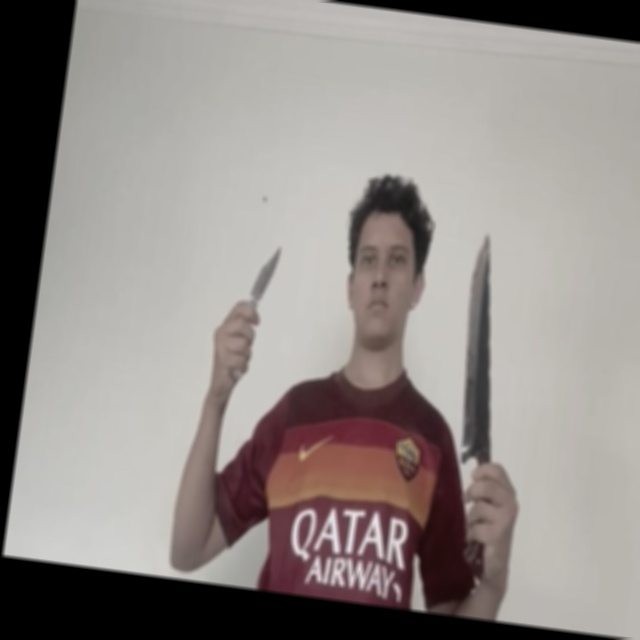Sharp-Object: (446, 229, 518, 459), (250, 244, 283, 302)
